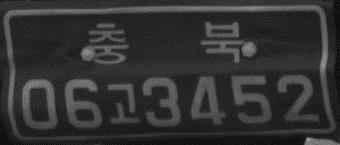0: (18, 75, 58, 132)
2: (274, 73, 320, 125)
3: (142, 75, 182, 128)
4: (186, 73, 226, 128)
5: (229, 72, 272, 128)
6: (61, 76, 101, 133)
고: (104, 78, 139, 126)
충북_D: (86, 18, 246, 66)
